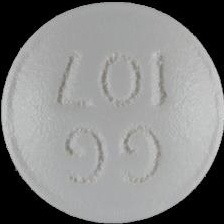53808-0665: (0, 0, 224, 224)
